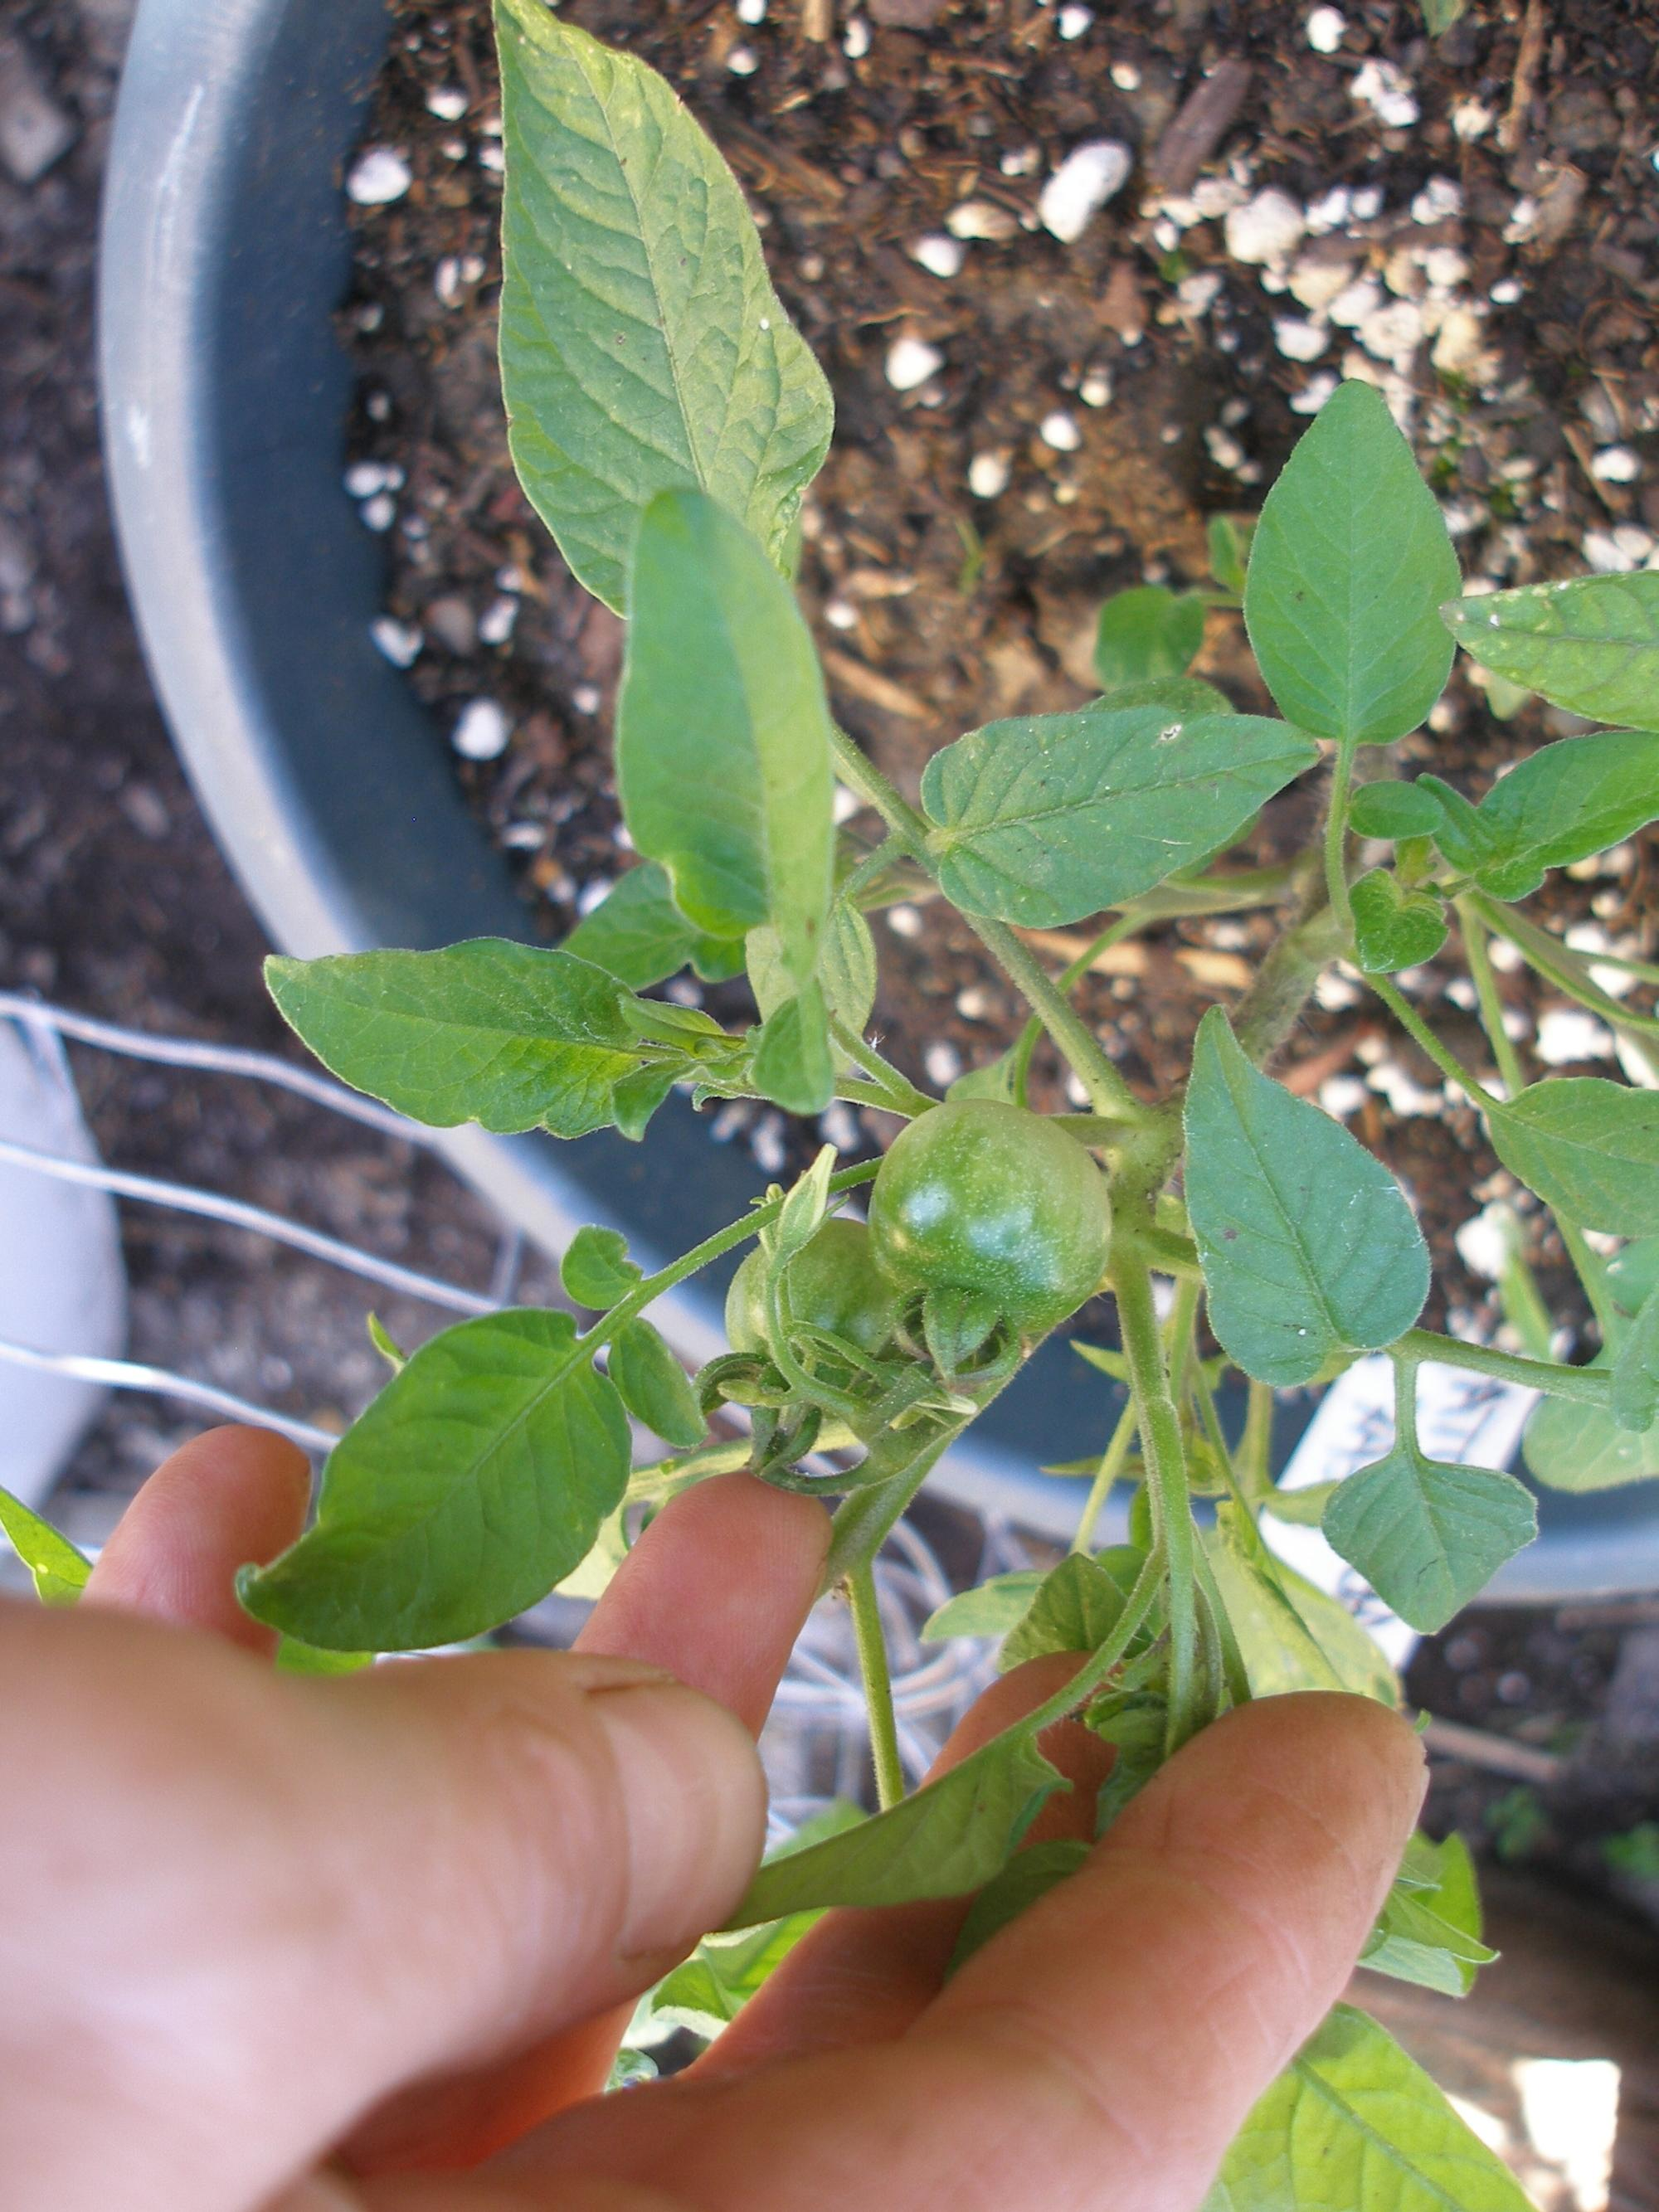Tomato leaf: (427, 0, 934, 655), (223, 1235, 676, 1693), (877, 637, 1328, 954), (197, 874, 599, 1216), (1122, 1045, 1474, 1392), (1211, 341, 1493, 772), (605, 449, 831, 948), (1382, 712, 1659, 935)
